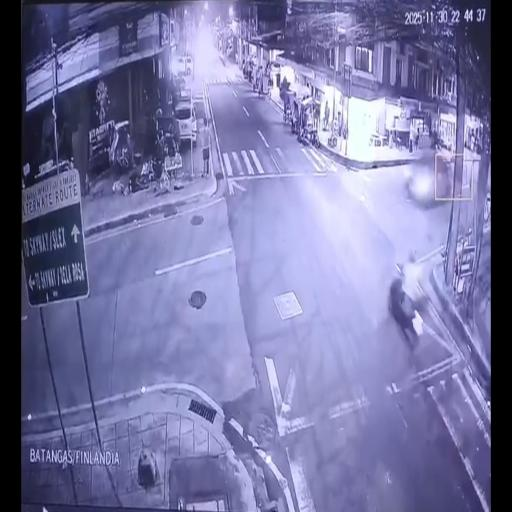Car: (408, 147, 448, 204)
Motor: (391, 248, 424, 343)
